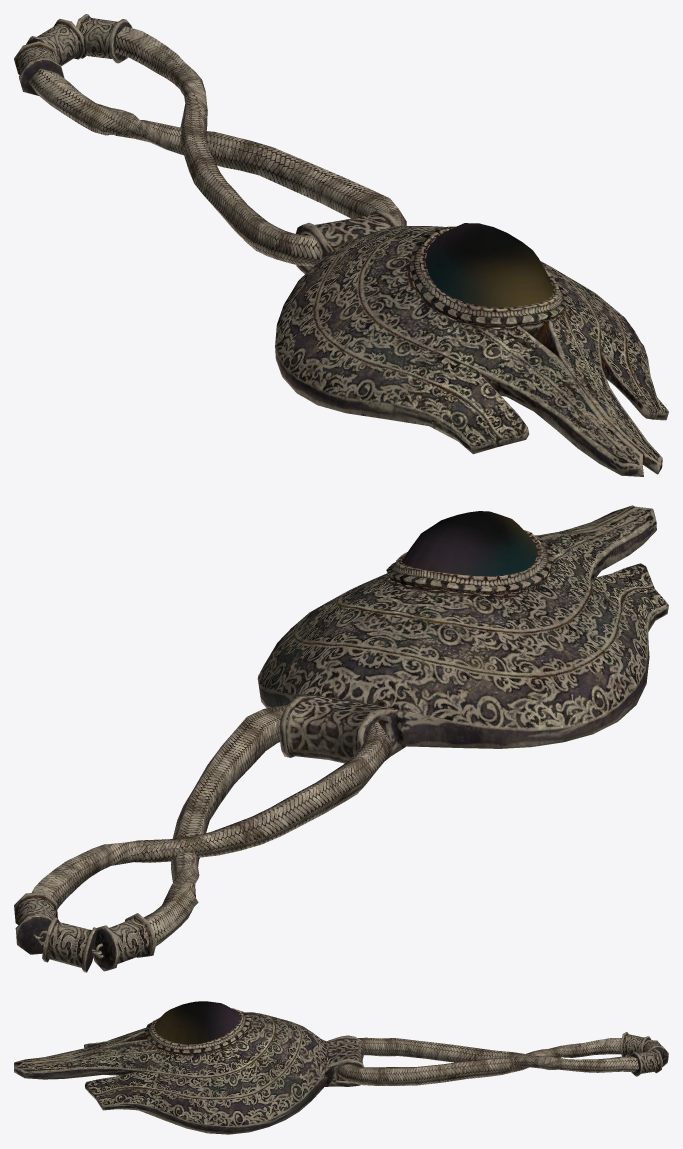
Rendered from godslayersseal.fbx.
3 views of the same model, one above another, from view 1: azimuth 30°, elevation 25°; view 2: azimuth 150°, elevation 25°; view 3: azimuth 270°, elevation 25° (orthographic). The views are drawn at different scales.
Parts seen in each view (by area): view 1: WP_A_1331; view 2: WP_A_1331; view 3: WP_A_1331.
Part boxes in pixels (x1=…): WP_A_1331: x1=14, y1=14, x2=668, y2=476; WP_A_1331: x1=14, y1=505, x2=668, y2=972; WP_A_1331: x1=14, y1=1001, x2=668, y2=1134.
Size of the model in its own units: 29.55 by 13.97 by 93.14.
1 material, 1 textured.
